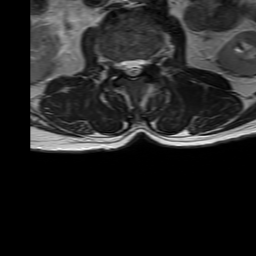CCS_normal: (129, 49, 137, 85)
LFS_stenosis: (144, 49, 153, 73)
LLS_normal: (137, 50, 144, 78)
RFS_normal: (113, 51, 121, 74)
RLS_normal: (121, 51, 129, 78)
